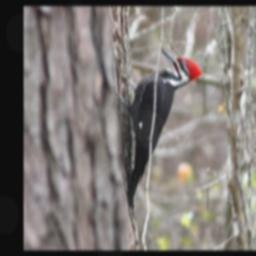Woodpecker: (115, 49, 205, 215)
